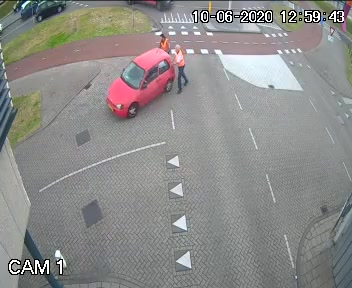car: (93, 53, 174, 118)
